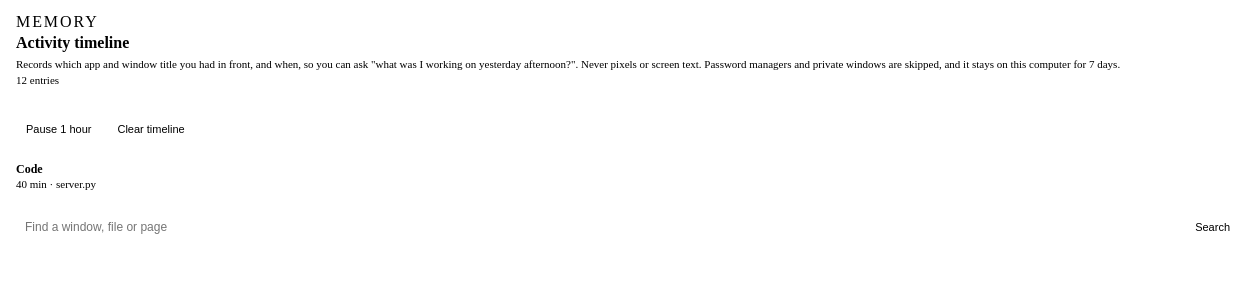
Test: TimelinePanel › shows today's apps and finds a window
Check: the text "Code" is shown, box [16,162,43,176]
Check: the text "40 min · server.py" is shown, box [16,178,96,190]
Type "report" into the field named "Search timeline".
click(598, 227); type("report")  # box [16,214,1179,240]
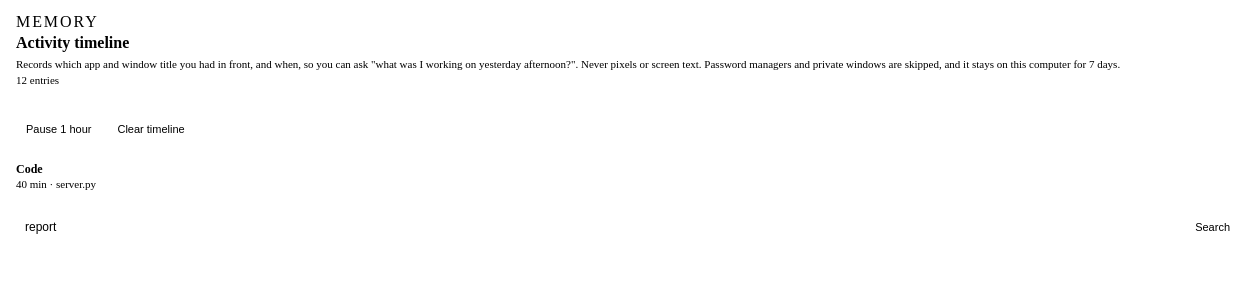
Click the button "Search".
click(1213, 227)  # box [1185,214,1240,240]
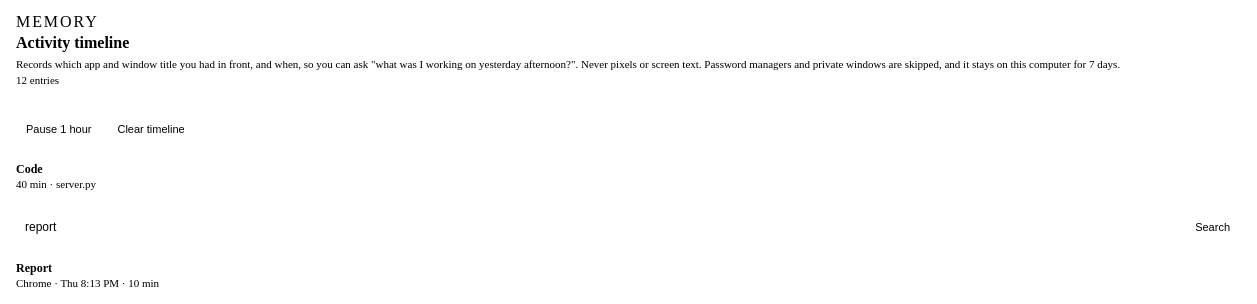
Check: the text "Report" is shown, box [16,261,52,275]
